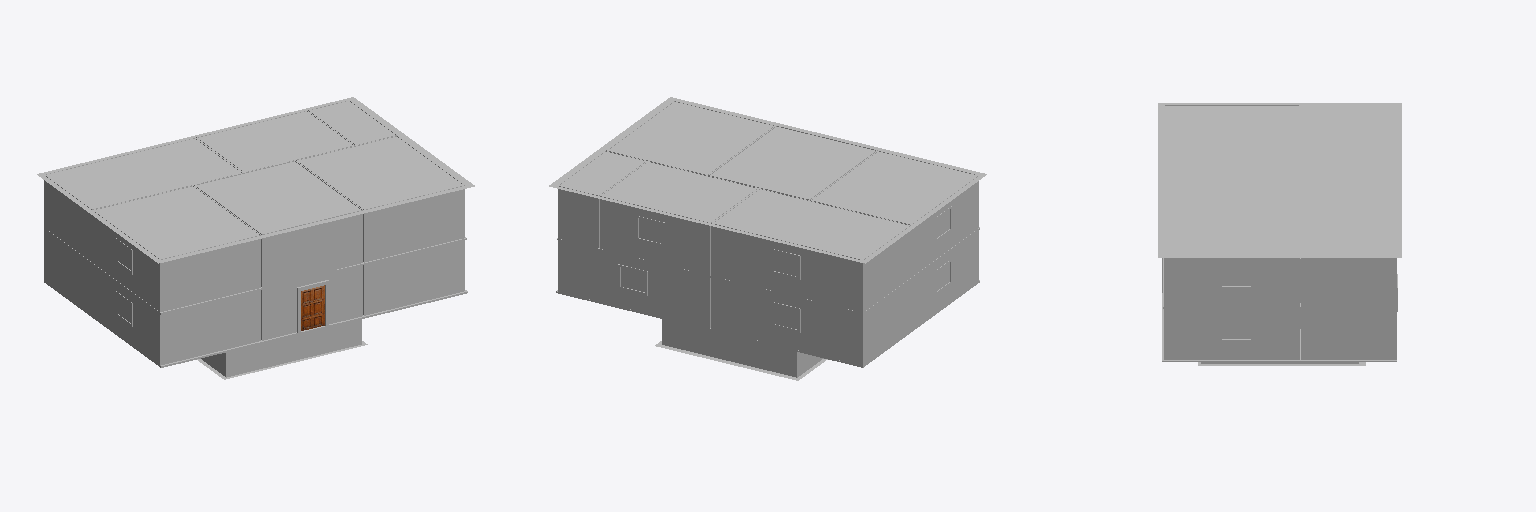
The picture shows the model from 3 angles: view 1: azimuth 30°, elevation 25°; view 2: azimuth 150°, elevation 25°; view 3: azimuth 270°, elevation 25°; orthographic projection.
Visible parts, largest first — view 1: map; view 2: map; view 3: map.
Boxes of the visible parts, x1,y1,x2,y2 form: map: [37, 97, 474, 379]; map: [549, 97, 986, 380]; map: [1158, 103, 1401, 365].
Size of the model in its own units: 14.76 by 6.79 by 9.85.
Materials: 14 (6 with a texture image).